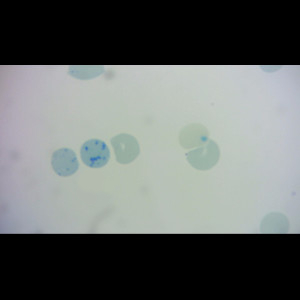aggregate reticulocyte: (78, 137, 111, 170)
erythrocyte: (184, 138, 222, 172), (109, 132, 142, 165), (177, 122, 209, 150)
punctate reticulocyte: (50, 147, 79, 178)
